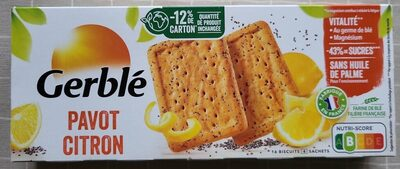Biscuits pavot citron: (20, 8, 380, 161)
